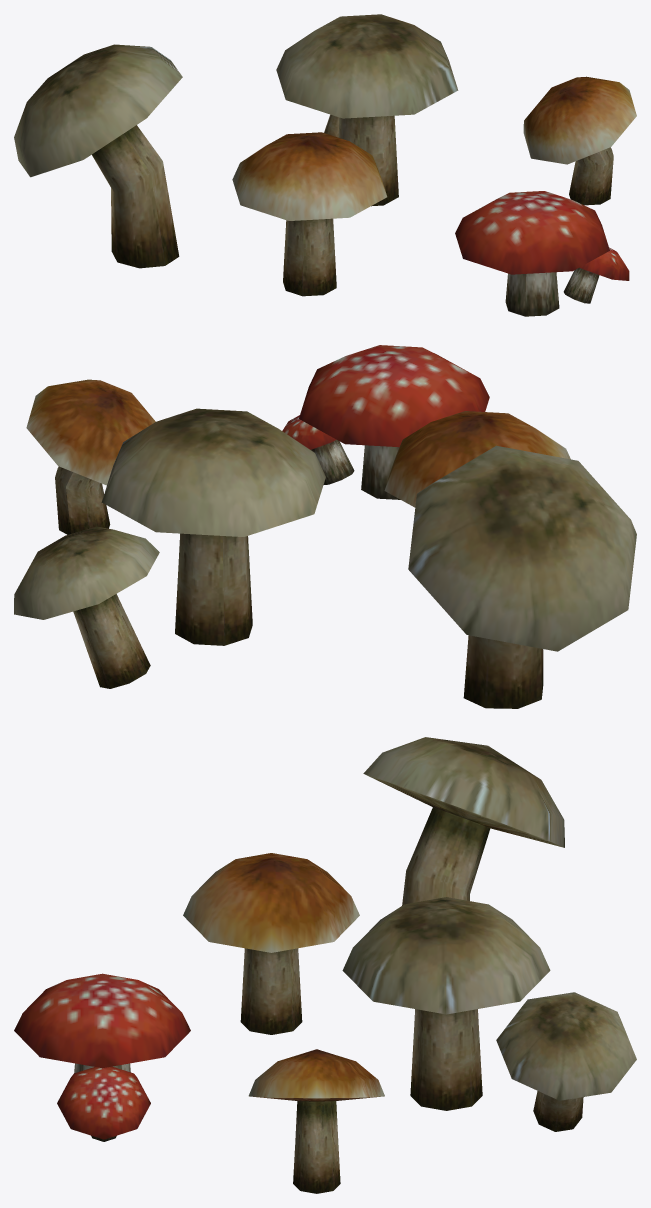
The model's file is mogu_09.FBX.
3 renders of one model, top to bottom at view 1: azimuth 30°, elevation 25°; view 2: azimuth 150°, elevation 25°; view 3: azimuth 270°, elevation 25°, orthographic. The views are drawn at different scales.
Visible parts, largest first — view 1: mogu_09_02; view 2: mogu_09_02; view 3: mogu_09_02.
Part boxes in pixels (left/top/right/bottom): mogu_09_02: left=14, top=14, right=636, bottom=316; mogu_09_02: left=14, top=345, right=636, bottom=708; mogu_09_02: left=14, top=737, right=636, bottom=1193.
Bounding box in the file's own units: 2.51 × 0.9377 × 2.26.
